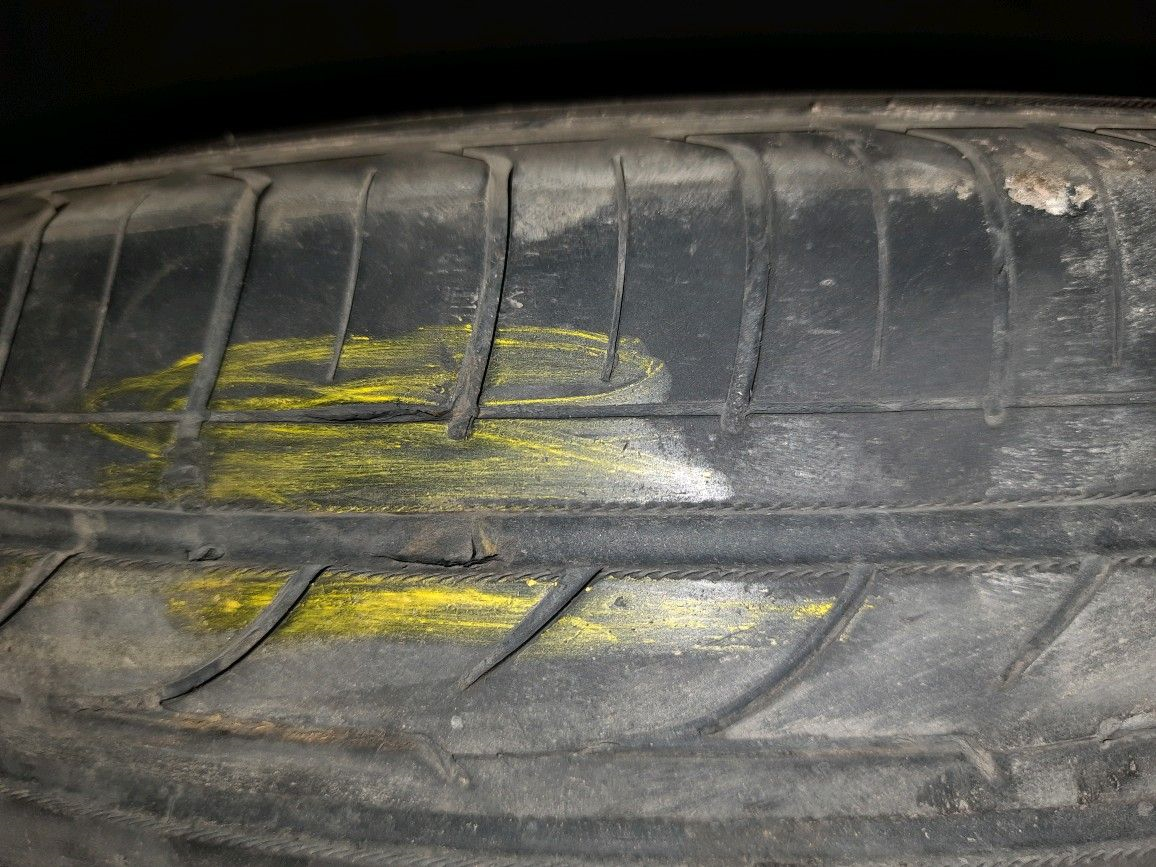tr: (369, 539, 507, 569), (307, 404, 464, 424)
